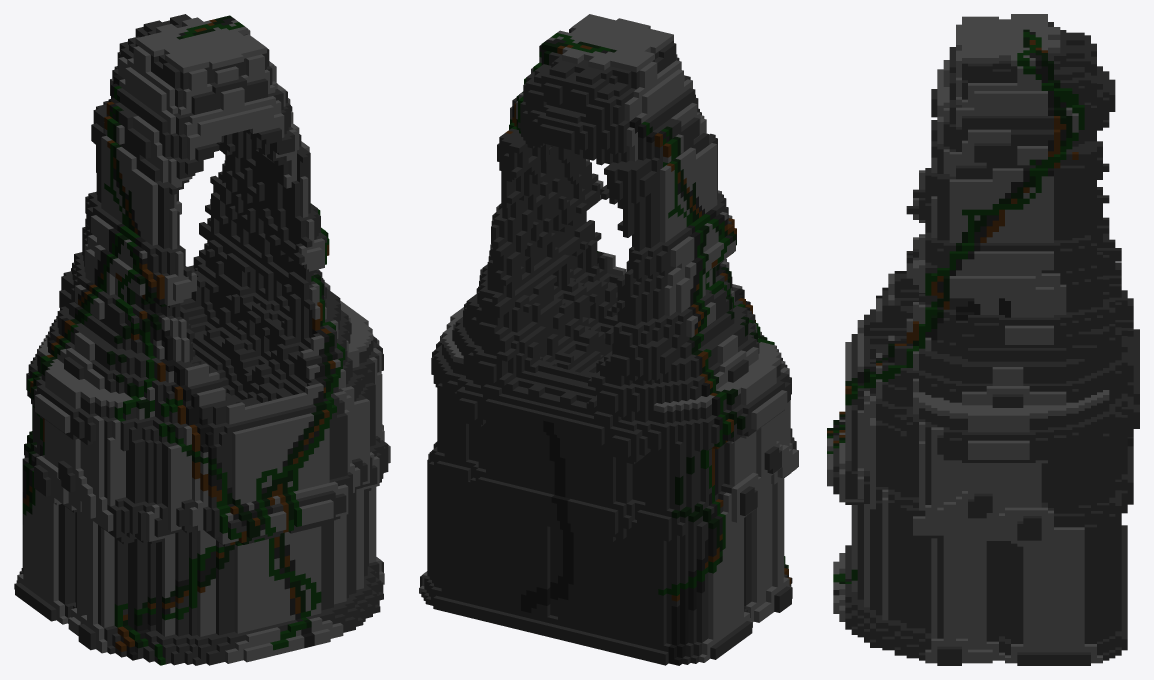
Rendered from Resonator_Stone.obj.
The picture shows the model from 3 angles, left to right: view 1: azimuth 30°, elevation 25°; view 2: azimuth 150°, elevation 25°; view 3: azimuth 270°, elevation 25°; orthographic projection.
Bounding box in the file's own units: 6 × 10 × 5.1.
Materials: 1 (1 with a texture image).
